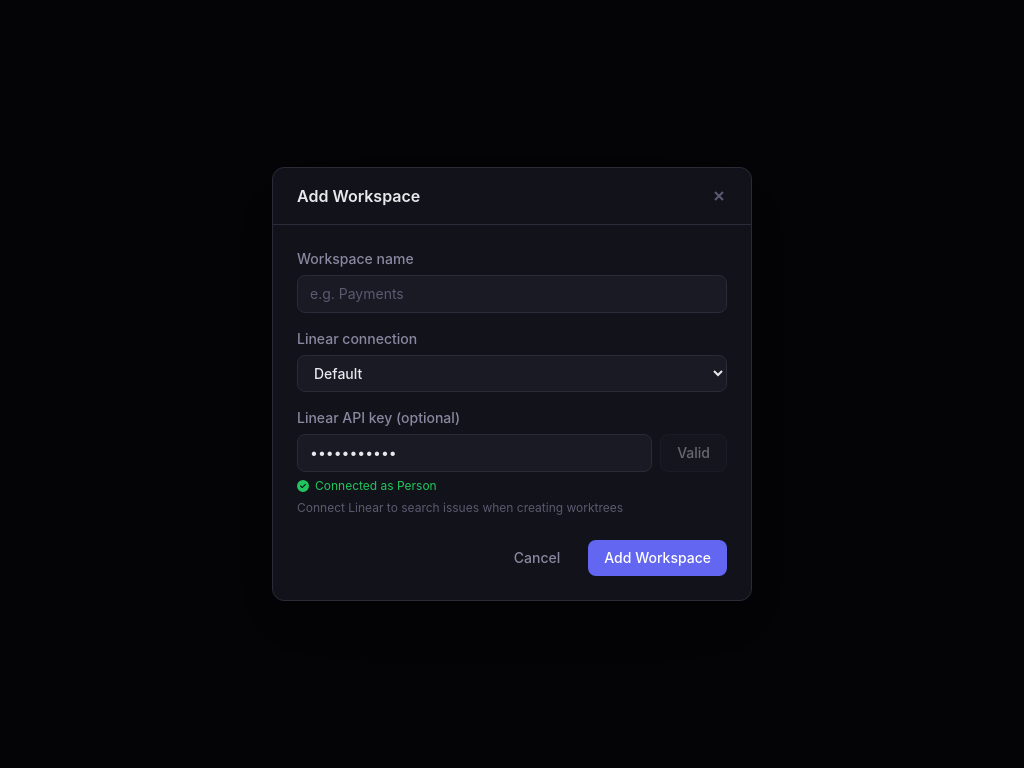
Scenario: workspace Linear connections › preselects the default when creating and allows another workspace key
Select "my-org — Source" in the dropdown at (512, 374), box [297, 355, 727, 392]
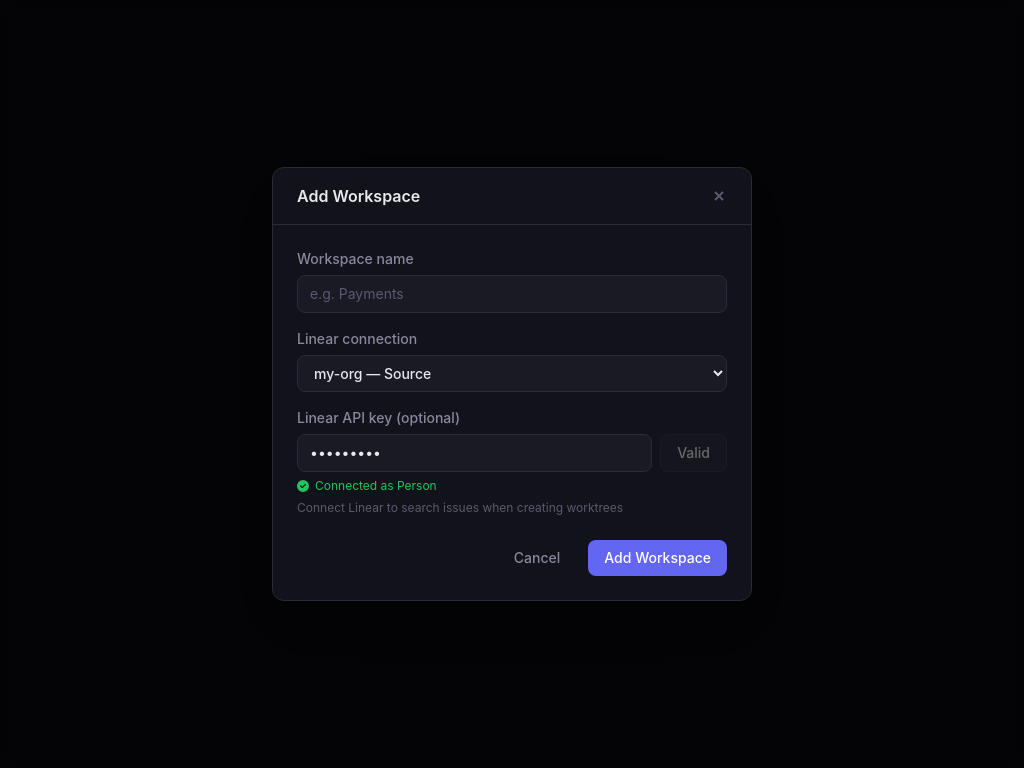
Expected: the password field with placeholder "lin_api_..." holds "saved-key", [297, 434, 652, 472]
